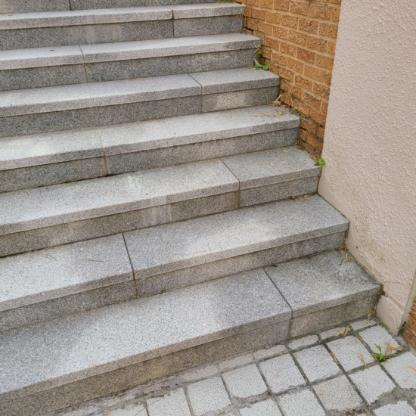stair: (0, 0, 388, 391)
